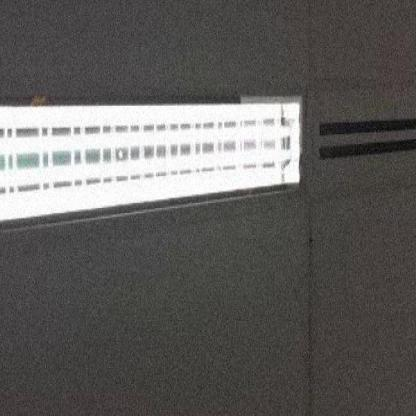light_on: (0, 62, 312, 247)
